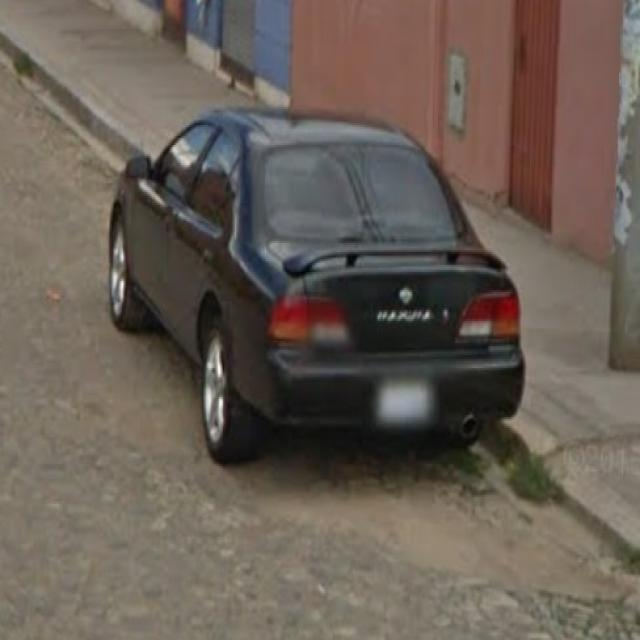cars: (100, 109, 536, 463)
